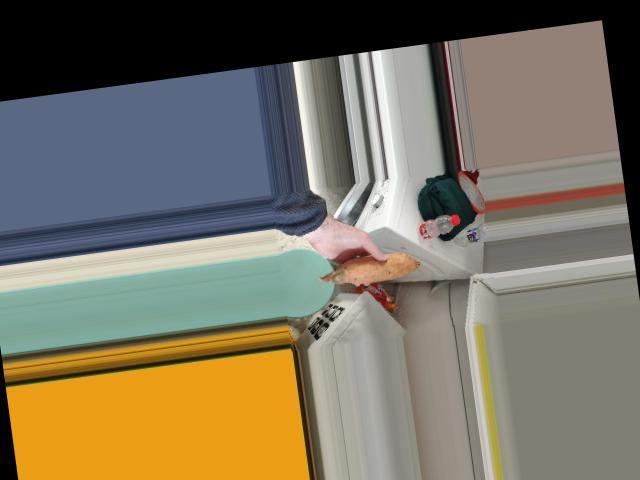sweet_potato: (329, 251, 418, 286)
